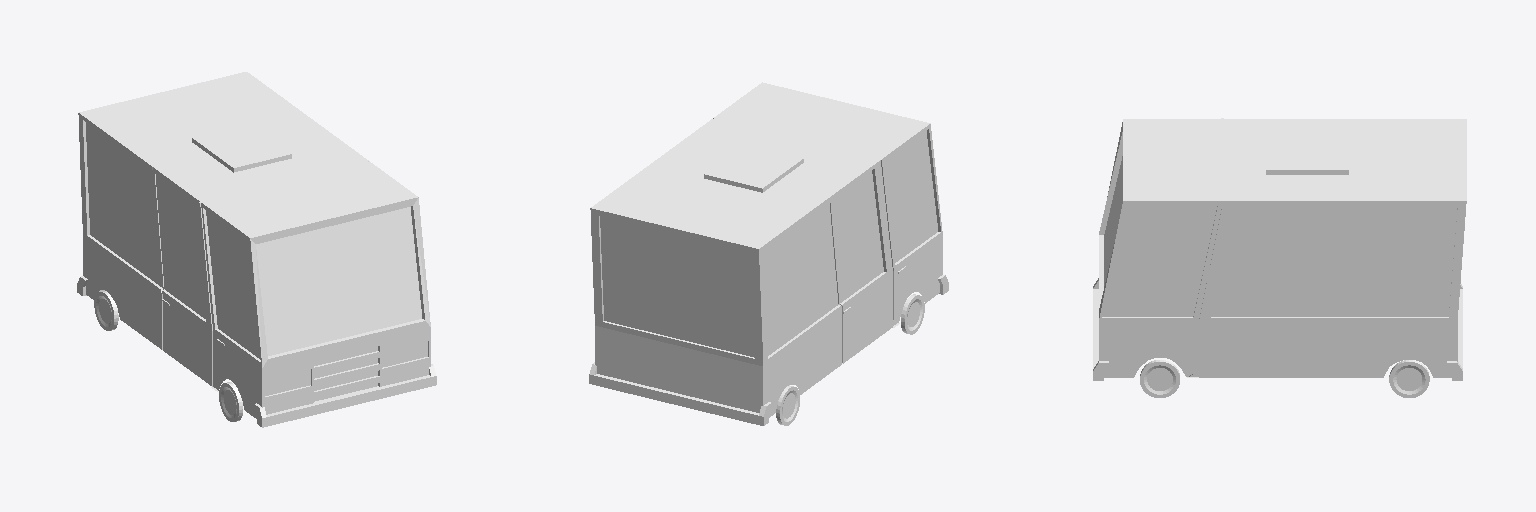
The model's file is bus_small.obj.
3 renders of one model, left to right at view 1: azimuth 30°, elevation 25°; view 2: azimuth 150°, elevation 25°; view 3: azimuth 270°, elevation 25°, orthographic.
Parts seen in each view (by area): view 1: Cube, Cube.004, Cylinder; view 2: Cube, Cube.004, Cylinder; view 3: Cube, Cylinder, Cube.004.
Boxes of the visible parts, <box> form: Cube: <box>78,72,430,418</box>; Cube.004: <box>77,276,436,427</box>; Cylinder: <box>94,291,242,421</box>; Cube: <box>590,82,942,417</box>; Cube.004: <box>589,275,948,425</box>; Cylinder: <box>776,294,924,425</box>; Cube: <box>1099,118,1466,377</box>; Cylinder: <box>1140,360,1429,397</box>; Cube.004: <box>1093,278,1462,380</box>.
Size of the model in its own units: 2.07 by 2.27 by 3.84.